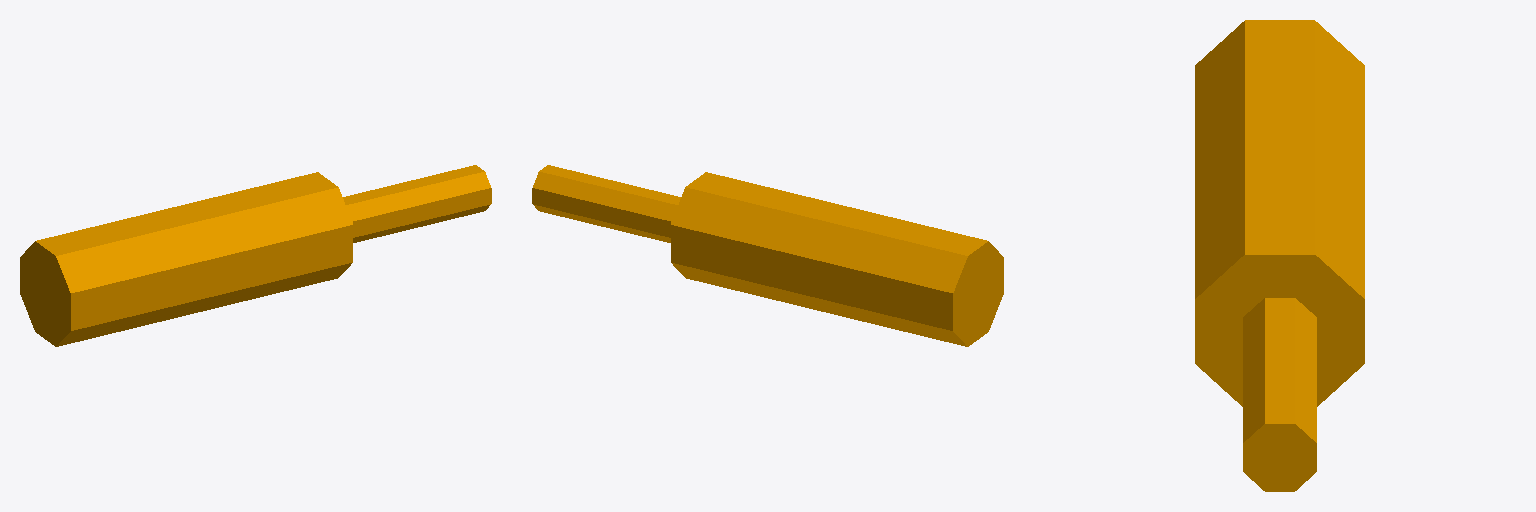
The robot description file, URDF, robot "jack35":
<?xml version="1.0"?>
<robot name="jack35">
  <link name="jack35">
    <visual><geometry><mesh filename="jack35_visual.obj"/></geometry></visual>
    <collision><geometry><mesh filename="jack35_hull.obj"/></geometry></collision>
  </link>
</robot>

--- Render facts (derived) ---
The picture shows the robot from 3 angles, left to right: view 1: azimuth 30°, elevation 25°; view 2: azimuth 150°, elevation 25°; view 3: azimuth 270°, elevation 25°; orthographic projection.
Model jack35 with 1 links and 0 joints (none), rooted at jack35, posed all joints at 0.
Visible links, largest first — view 1: jack35; view 2: jack35; view 3: jack35.
Link boxes in pixels (bbox=[...]): jack35: bbox=[20, 165, 491, 346]; jack35: bbox=[532, 165, 1003, 346]; jack35: bbox=[1195, 20, 1364, 491].
Bounding box of the posed robot: 0.04 × 0.008 × 0.008 m (x, y, z).
Meshes: 1 distinct files referenced, 1 mesh visuals loaded (1 OBJ).
